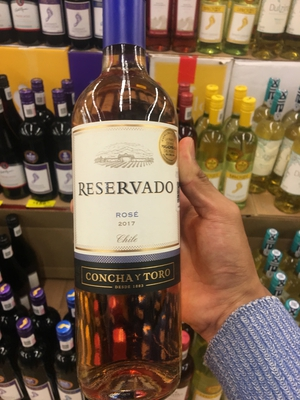reservado rose: (71, 22, 182, 396)
